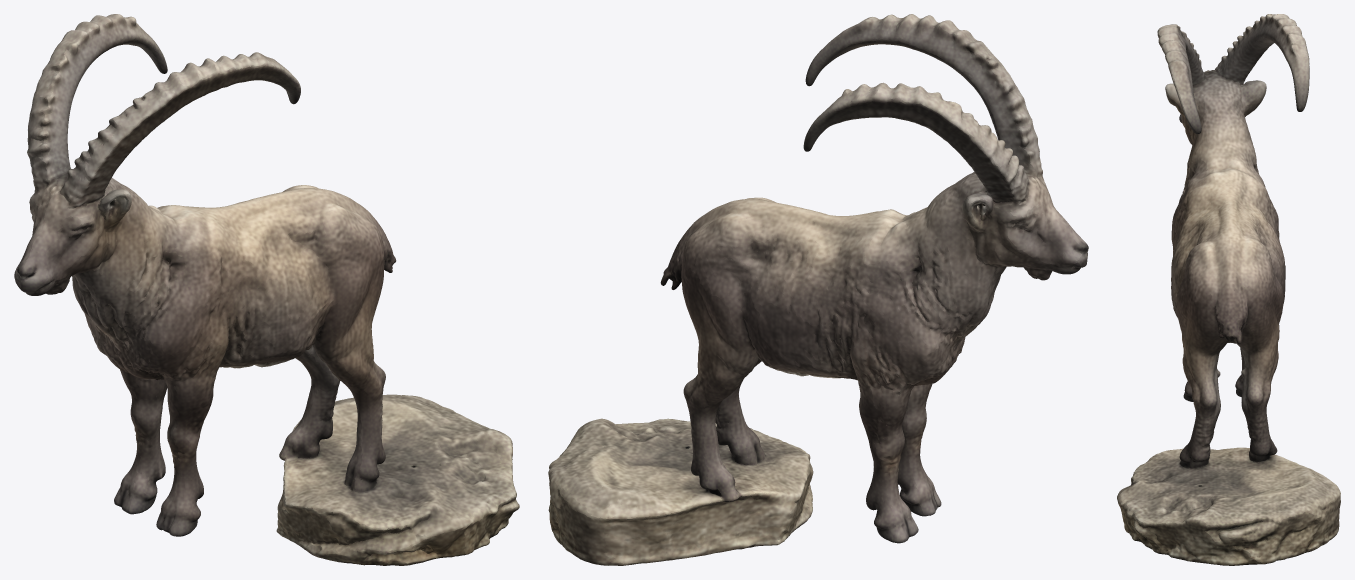
File: task-4900724.glb
The picture shows the model from 3 angles, left to right: view 1: azimuth 30°, elevation 25°; view 2: azimuth 150°, elevation 25°; view 3: azimuth 270°, elevation 25°; orthographic projection. The views are drawn at different scales.
Visible parts, largest first — view 1: world; view 2: world; view 3: world.
Part boxes in pixels (<box>): world: <box>14,14,519,565</box>; world: <box>548,14,1088,565</box>; world: <box>1117,14,1340,565</box>.
Size of the model in its own units: 1.4 by 1.41 by 0.6946.
Materials: 1 (1 with a texture image).
